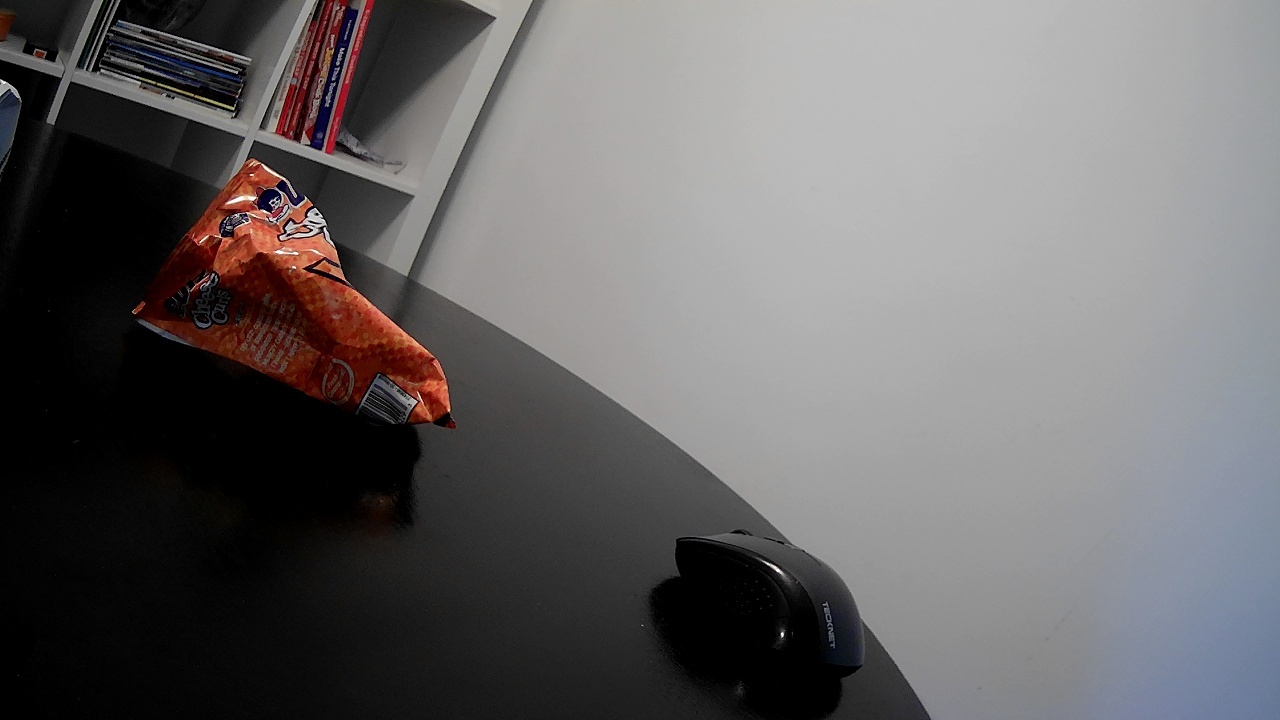trash: (97, 132, 516, 502)
